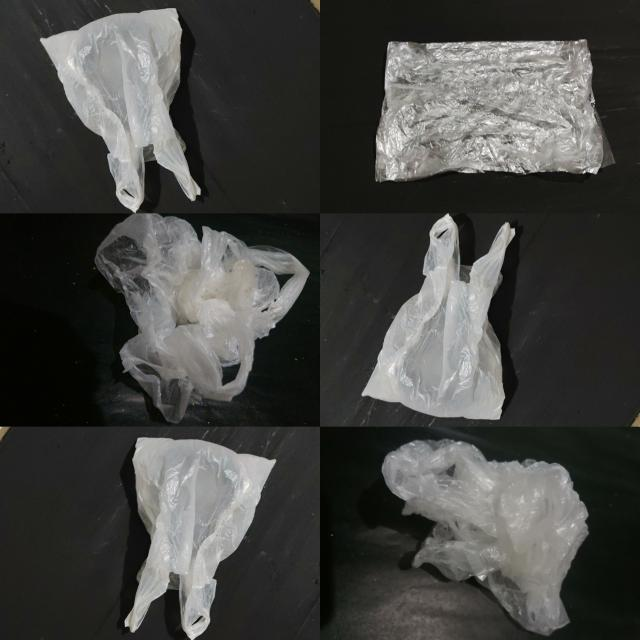Single-layer Plastic: (95, 214, 309, 422), (382, 440, 588, 634), (375, 40, 614, 181), (40, 9, 201, 211), (363, 215, 514, 419), (125, 438, 275, 639)
